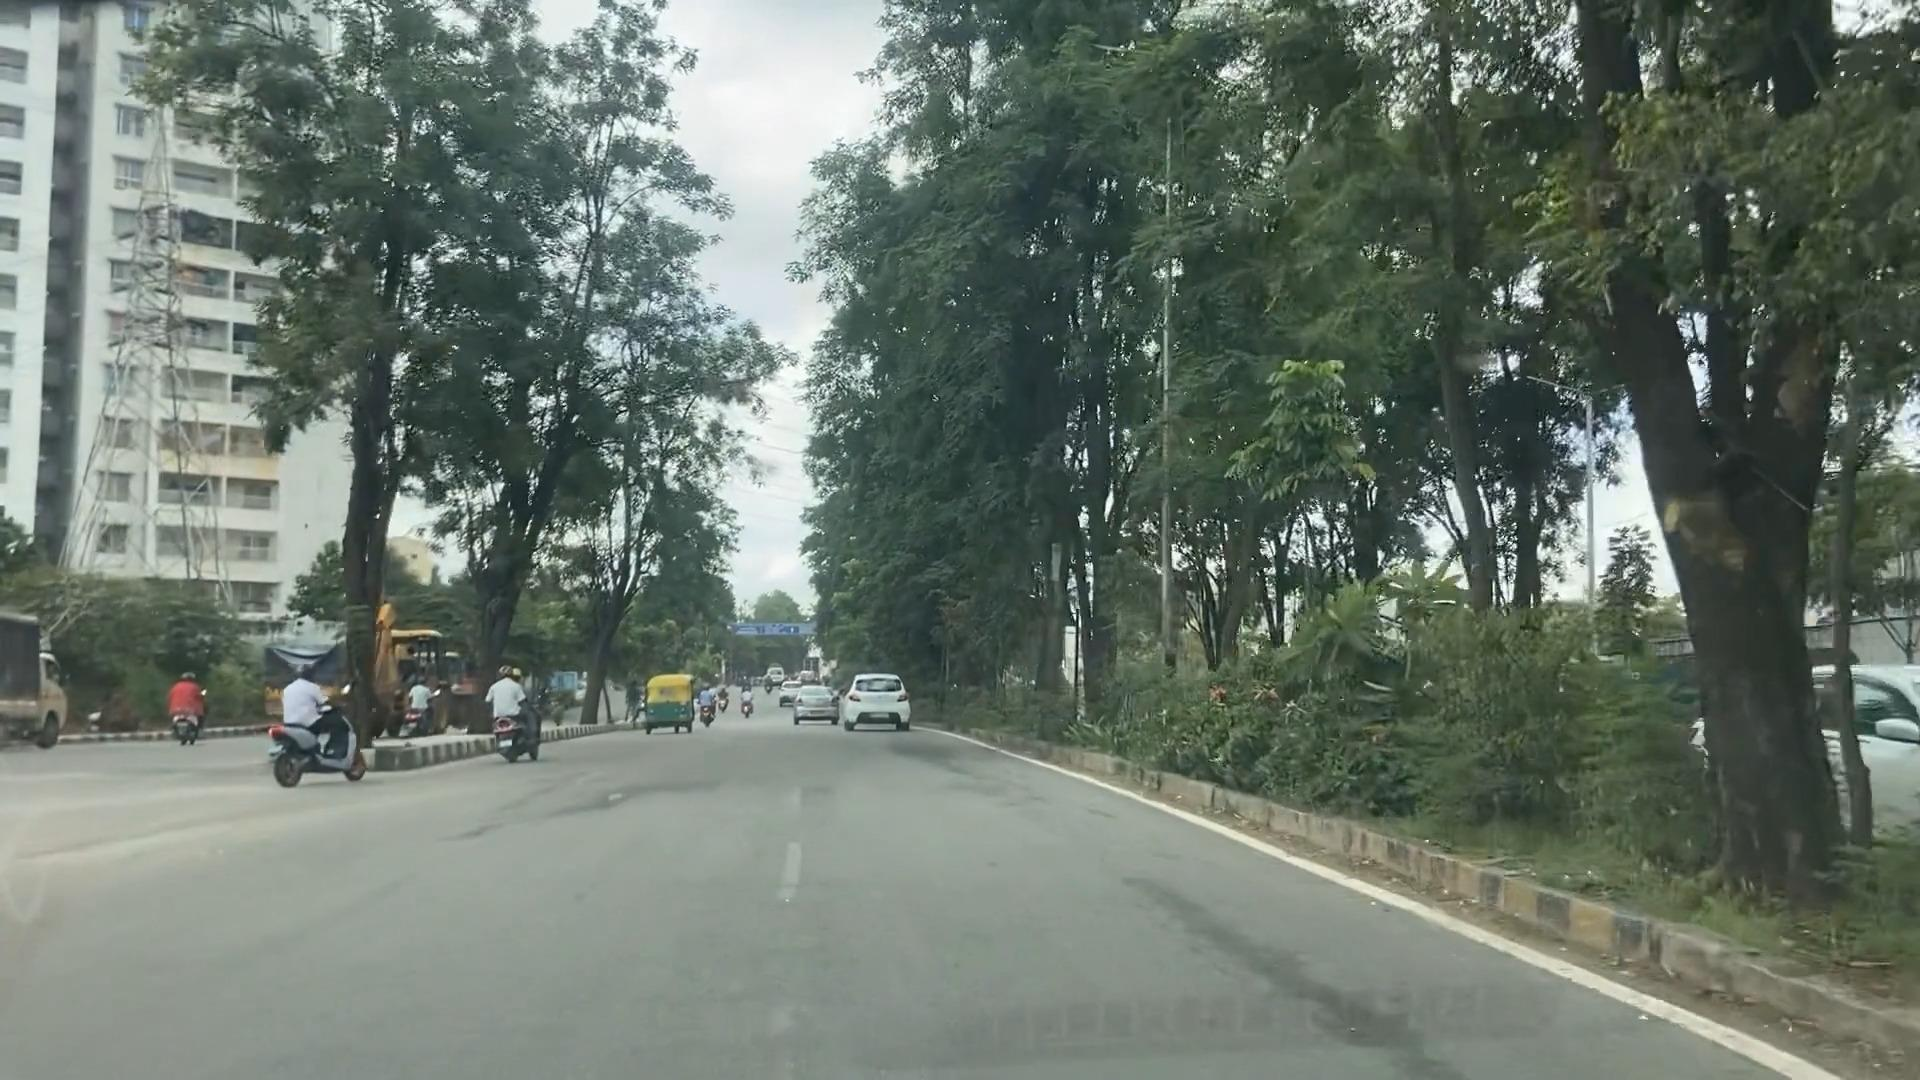LMV: (272, 670, 367, 782), (488, 655, 529, 756), (852, 669, 907, 724), (646, 669, 691, 731), (798, 682, 831, 727)
RoadDamages: (1220, 928, 1400, 1071), (906, 740, 993, 783), (592, 770, 680, 808)
